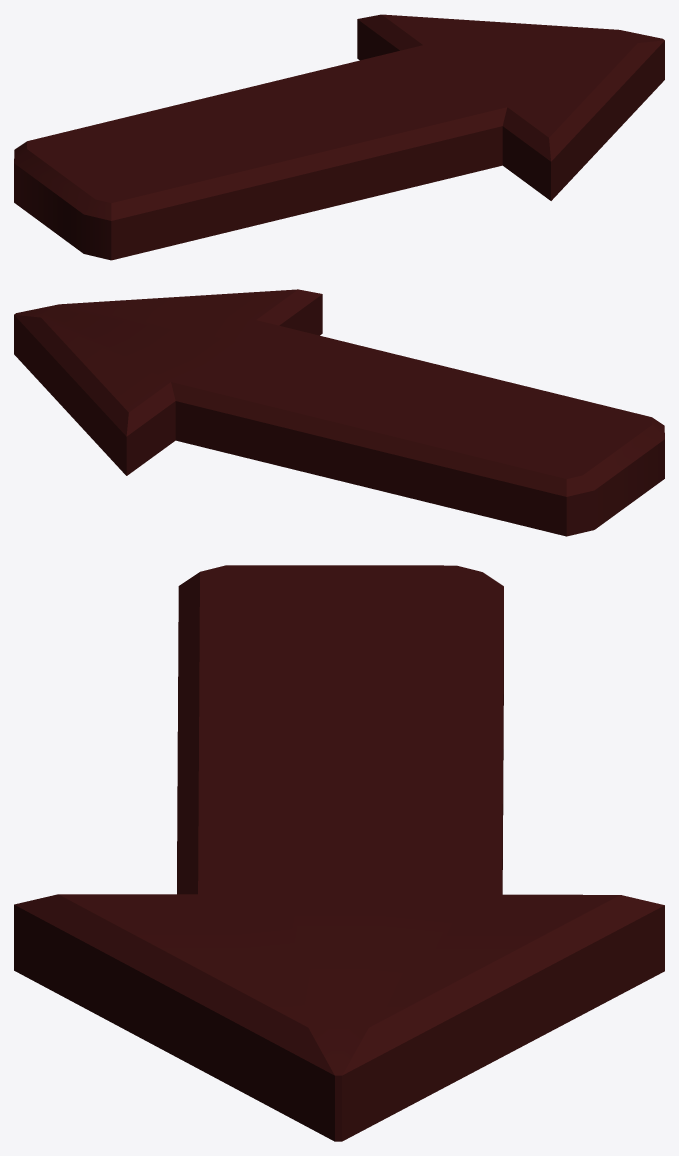
File: Arrow.obj
3 renders of one model, top to bottom at view 1: azimuth 30°, elevation 25°; view 2: azimuth 150°, elevation 25°; view 3: azimuth 270°, elevation 25°, orthographic. The views are drawn at different scales.
Parts seen in each view (by area): view 1: Arrow_Cube.248; view 2: Arrow_Cube.248; view 3: Arrow_Cube.248.
Part boxes in pixels (x1,y1,x2,y2): Arrow_Cube.248: [14, 14, 664, 260]; Arrow_Cube.248: [14, 289, 664, 536]; Arrow_Cube.248: [14, 565, 664, 1141].
Bounding box in the file's own units: 1.85 × 0.1473 × 1.02.
